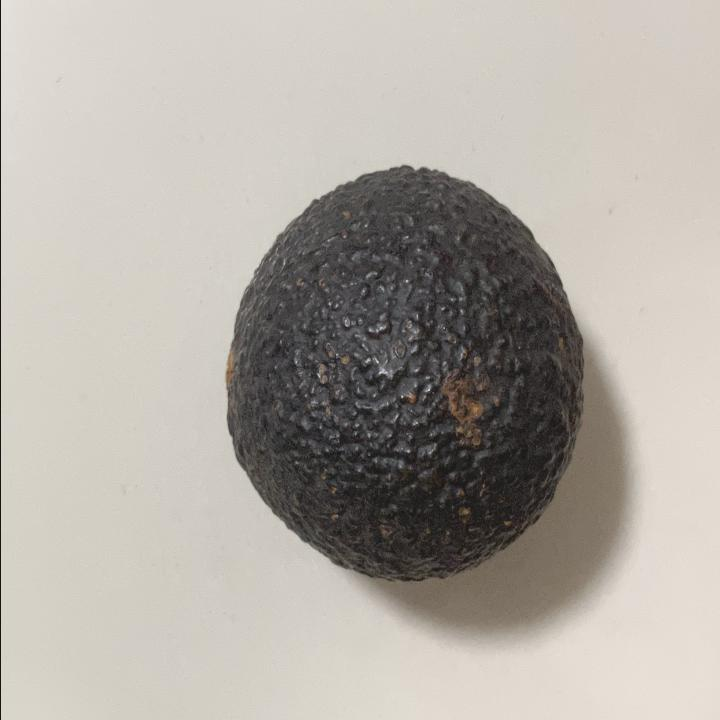Level2: (214, 156, 588, 592)
